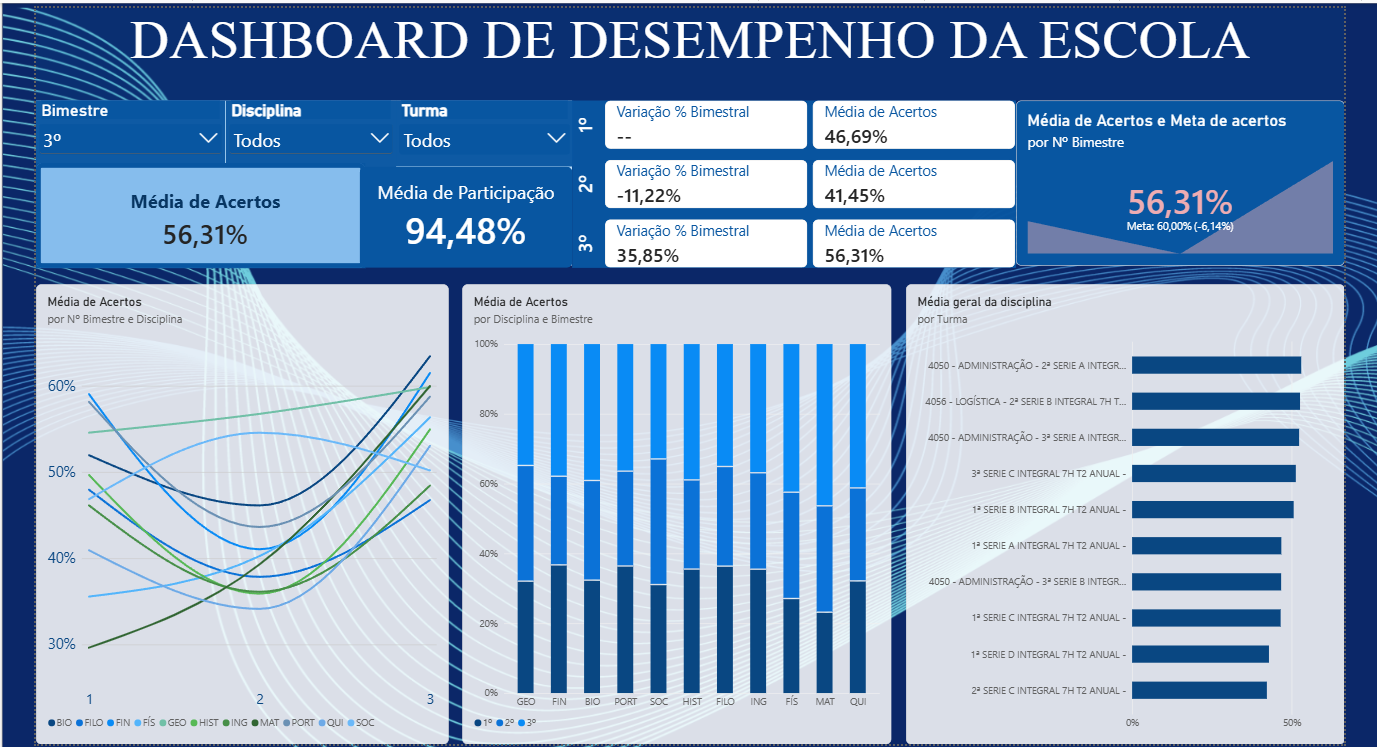

The dashboard page shown, as its layout file describes it:
{"tool":"powerbi","page":{"name":"Página 1","canvas":[1920,1080],"ordinal":0},"visuals":[{"type":"slicer","fields":{"Values":["Tabela1_1.Bimestre"]},"box":[0.5,136,277.4,96.8],"z":2001,"group":"g1"},{"type":"slicer","fields":{"Values":["Tabela1_1.Disciplina"]},"box":[277.9,135.7,249.9,98.9],"z":2002,"group":"g1"},{"type":"slicer","fields":{"Values":["Tabela1_1.Turma"]},"box":[527.9,136,259.9,96.8],"z":2003,"group":"g1"},{"type":"group","id":"g1","title":"Grupo 1","box":[0,135.7,787.8,243],"z":2004,"group":"g2"},{"type":"cardVisual","fields":{"Data":["Tabela1_1.Média de Acertos"]},"box":[0,228.2,483.5,154.7],"z":2005,"group":"g1"},{"type":"cardVisual","fields":{"Data":["Tabela1_1.Variação % Bimestral","Tabela1_1.Média de Acertos"],"Rows":["Tabela1_1.Bimestre"]},"box":[786.9,135.7,651.2,245.8],"z":2009},{"type":"cardVisual","fields":{"Data":["Tabela1_1.Média de Participação"]},"box":[474.4,232.9,312.5,148.6],"z":2010,"group":"g2"},{"type":"group","id":"g2","title":"Grupo 2","box":[0,135.7,786.9,245.8],"z":2011},{"type":"lineChart","fields":{"Category":["Tabela1_1.Ordem Bimestre"],"Y":["Tabela1_1.Média de Acertos"],"Series":["Tabela1_1.Disciplina"]},"box":[0,405.4,605.3,675],"z":2012},{"type":"clusteredBarChart","fields":{"Category":["Tabela1_1.Turma"],"Y":["Tabela1_1.Média geral da disciplina"]},"box":[1276.6,405.4,643.8,675],"z":2013},{"type":"hundredPercentStackedColumnChart","fields":{"Category":["Tabela1_1.Disciplina"],"Y":["Tabela1_1.Média de Acertos"],"Series":["Tabela1_1.Bimestre"]},"box":[625.7,405.5,629.8,675.1],"z":2014},{"type":"kpi","fields":{"Goal":["Tabela1_1.Meta de acertos"],"Indicator":["Tabela1_1.Média de Acertos"],"TrendLine":["Tabela1_1.Nº Bimestre"]},"box":[1438.1,135.7,482.4,242.1],"z":2015},{"type":"textbox","box":[0,0,1920.5,135.7],"z":2016}]}

Visuals, with their boxes in screenshot pixels (x1, y1, x2, y2):
slicer - Tabela1_1.Bimestre: x1=33, y1=96, x2=222, y2=162
slicer - Tabela1_1.Disciplina: x1=222, y1=96, x2=392, y2=163
slicer - Tabela1_1.Turma: x1=392, y1=96, x2=569, y2=162
"Grupo 1" group: x1=32, y1=96, x2=569, y2=262
cardVisual - Tabela1_1.Média de Acertos: x1=32, y1=159, x2=362, y2=264
cardVisual - Tabela1_1.Variação % Bimestral x Tabela1_1.Média de Acertos: x1=568, y1=96, x2=1012, y2=263
cardVisual - Tabela1_1.Média de Participação: x1=355, y1=162, x2=568, y2=263
"Grupo 2" group: x1=32, y1=96, x2=568, y2=263
lineChart - Tabela1_1.Ordem Bimestre x Tabela1_1.Média de Acertos: x1=32, y1=280, x2=445, y2=739
clusteredBarChart - Tabela1_1.Turma x Tabela1_1.Média geral da disciplina: x1=902, y1=280, x2=1340, y2=739
hundredPercentStackedColumnChart - Tabela1_1.Disciplina x Tabela1_1.Média de Acertos: x1=458, y1=280, x2=887, y2=740
kpi - Tabela1_1.Meta de acertos x Tabela1_1.Média de Acertos: x1=1012, y1=96, x2=1340, y2=261
textbox: x1=32, y1=4, x2=1340, y2=96
